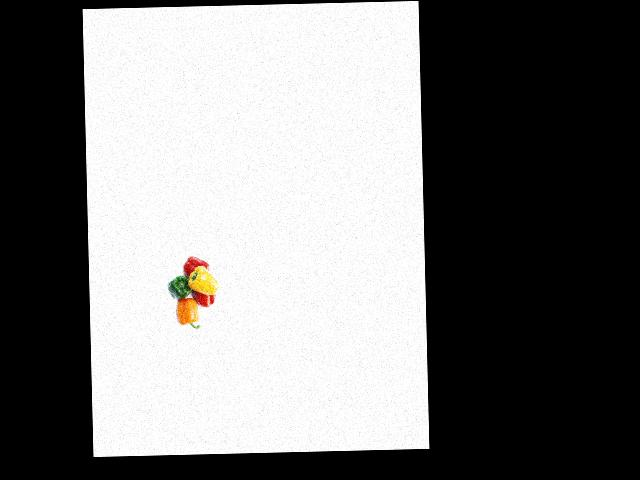bell_pepper: (163, 269, 198, 301)
